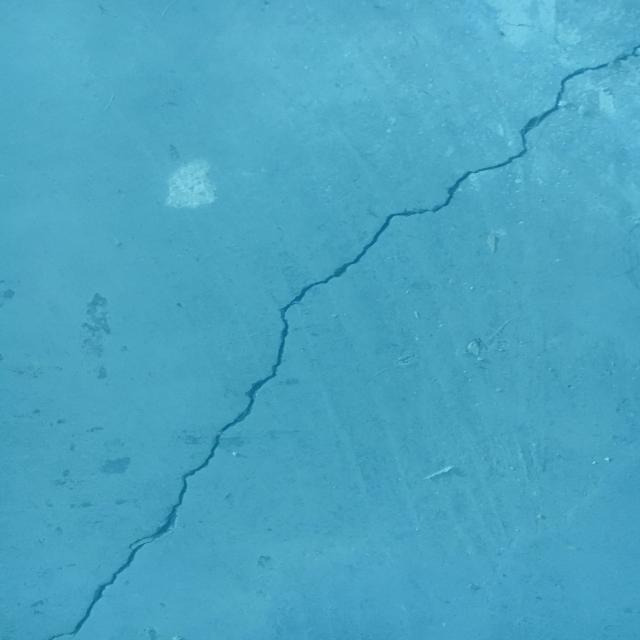crack: (47, 42, 640, 640)
